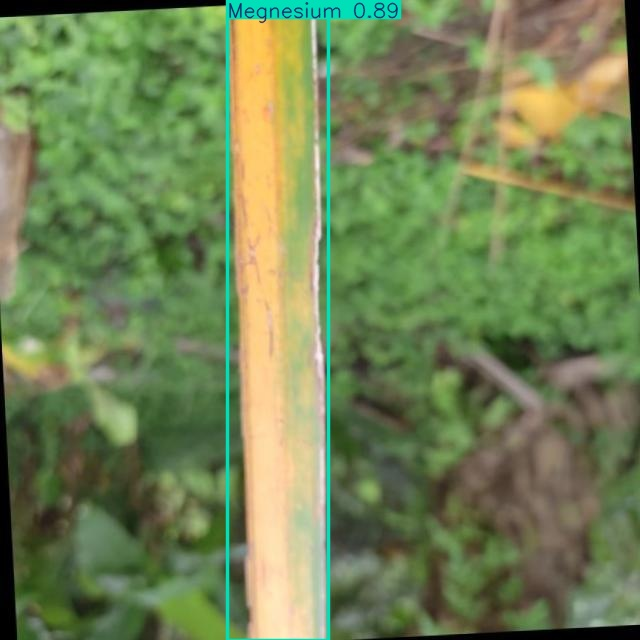Megnesium: (228, 0, 328, 640)
